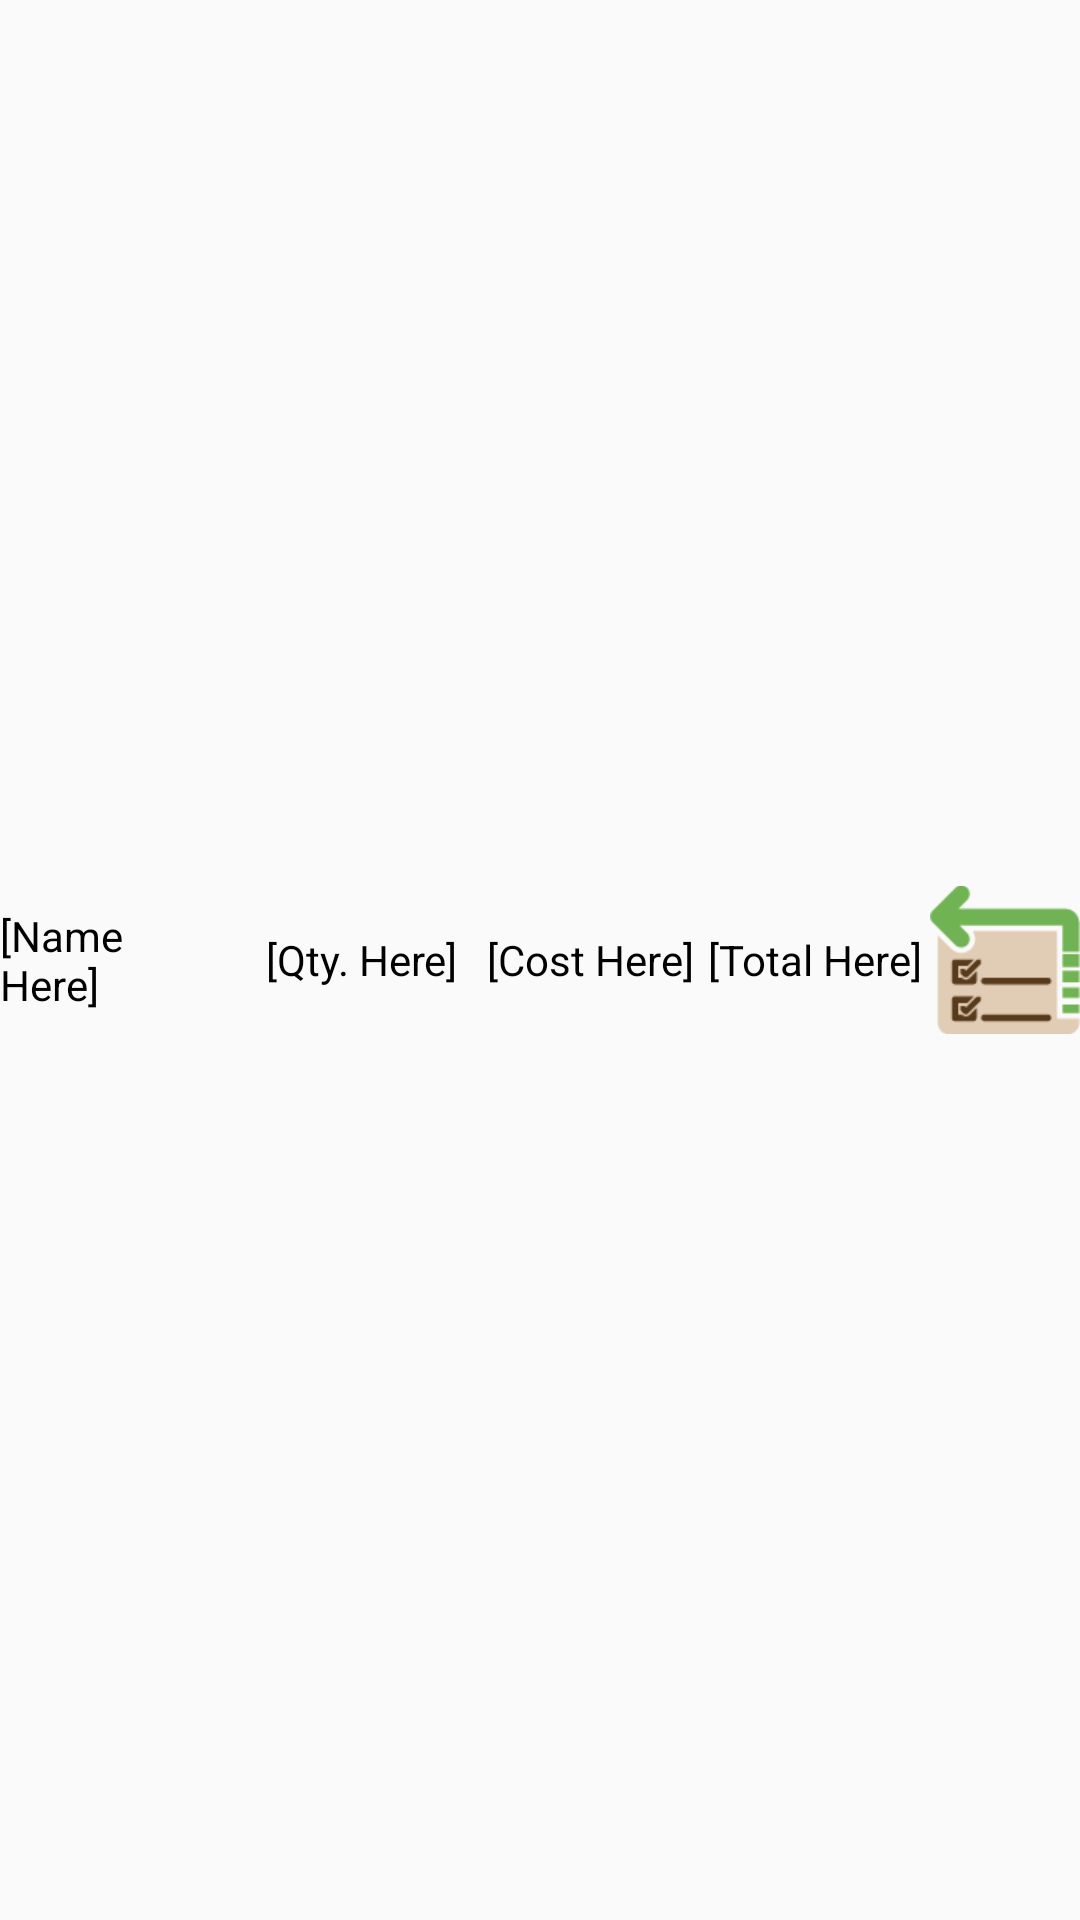

Named icons in this screenshot (1080px×1920px) and their bounding boxes, bbox=[x1, y1, x2, y2]:
item return: bbox=[930, 886, 1080, 1034]
